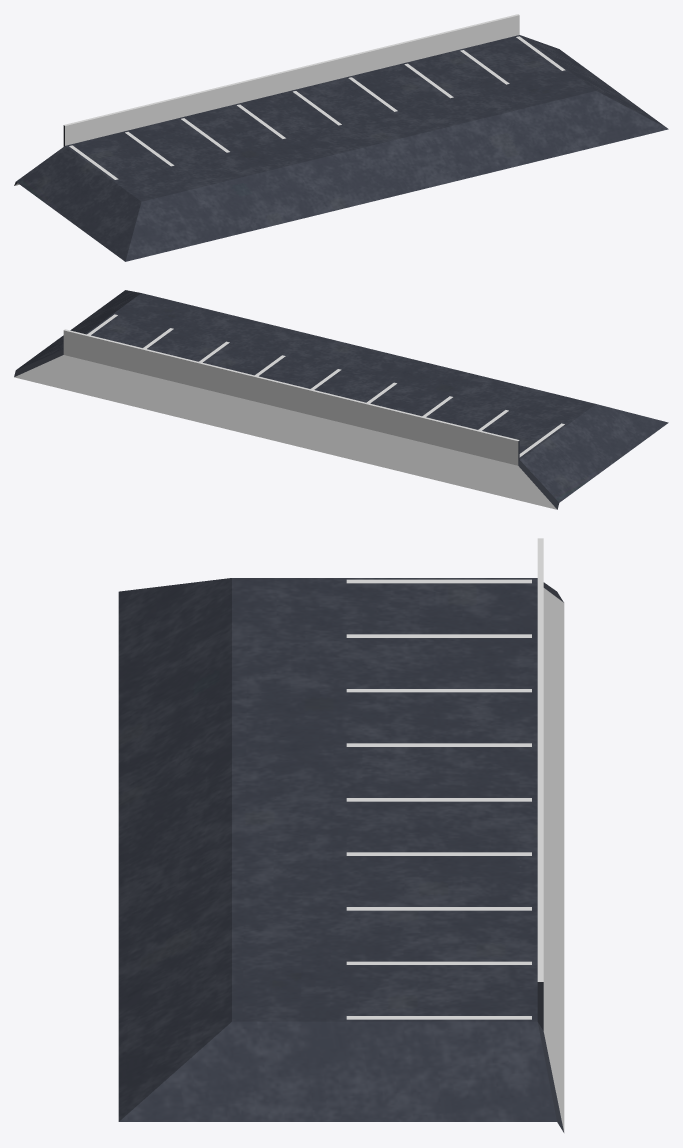
File: Park.fbx
3 views of the same model, one above another, from view 1: azimuth 30°, elevation 25°; view 2: azimuth 150°, elevation 25°; view 3: azimuth 270°, elevation 25° (orthographic). The views are drawn at different scales.
Visible parts, largest first — view 1: Plane, Plane.002, Plane.001; view 2: Plane, Plane.002, Plane.001; view 3: Plane, Plane.002, Plane.001.
Boxes of the visible parts, <box> form: Plane: <box>14,14,595,201</box>; Plane.002: <box>16,35,668,261</box>; Plane.001: <box>69,36,565,179</box>; Plane: <box>14,293,595,509</box>; Plane.002: <box>17,290,668,502</box>; Plane.001: <box>87,314,564,457</box>; Plane: <box>232,538,564,1132</box>; Plane.002: <box>118,578,556,1121</box>; Plane.001: <box>346,579,531,1019</box>.
Bounding box in the file's own units: 3352 × 319 × 1190.
